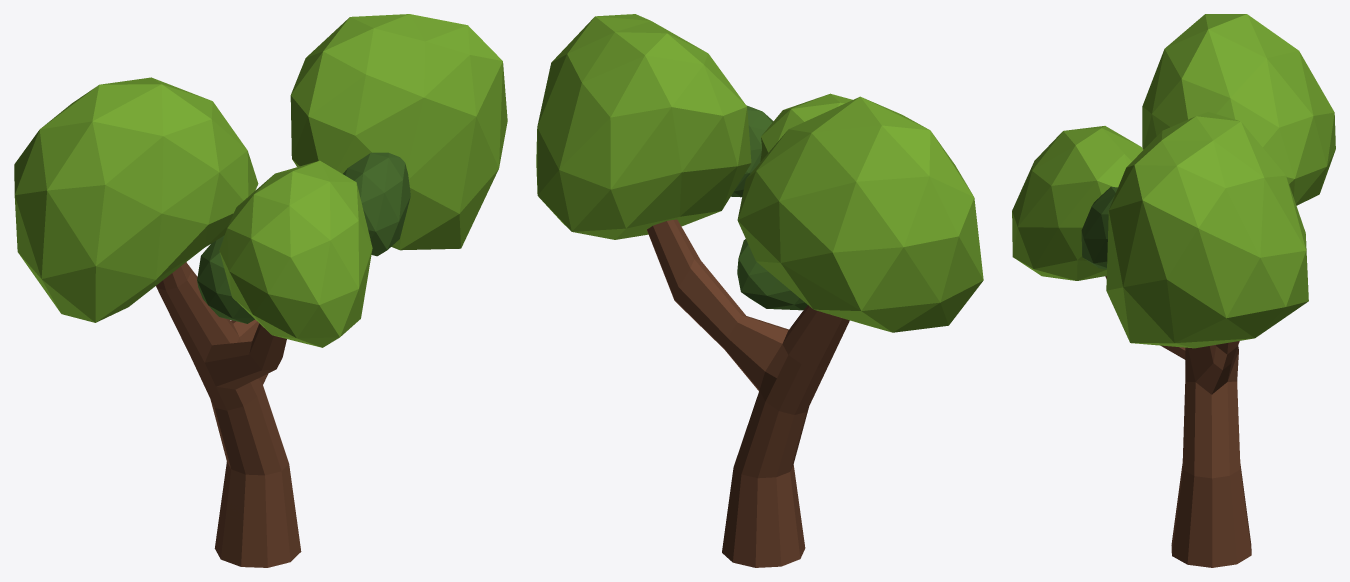
Rendered from Natures2t2-green.fbx.
3 views of the same model, side by side, from view 1: azimuth 30°, elevation 25°; view 2: azimuth 150°, elevation 25°; view 3: azimuth 270°, elevation 25° (orthographic). The views are drawn at different scales.
Parts seen in each view (by area): view 1: t2-green; view 2: t2-green; view 3: t2-green.
Part boxes in pixels (x1,y1,x2,y2): t2-green: (14, 14, 507, 567); t2-green: (536, 14, 983, 567); t2-green: (1012, 14, 1335, 567).
Size of the model in its own units: 673 by 718 by 435.
